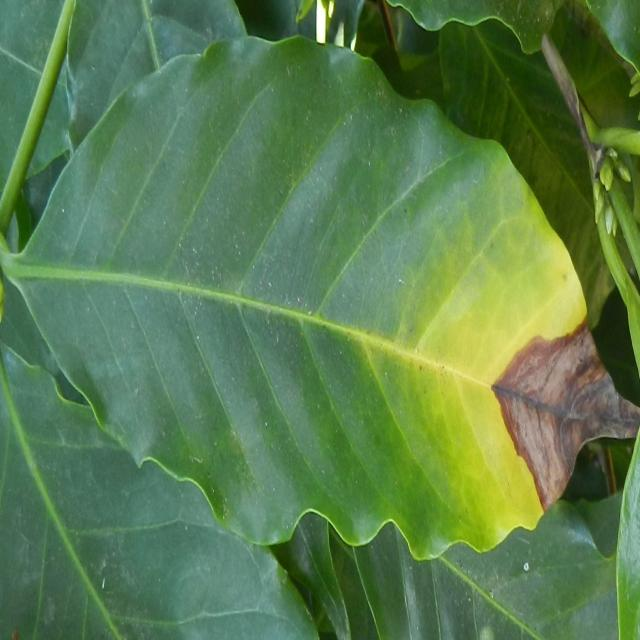Enfermedad-Mancha-de-hierro: (0, 37, 640, 563)
